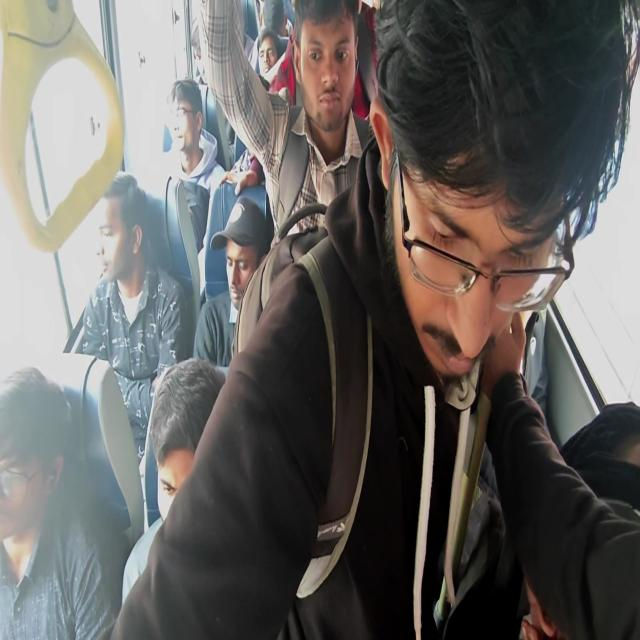person: (401, 42, 640, 408), (3, 376, 92, 558), (90, 176, 174, 310), (160, 382, 230, 518), (297, 1, 362, 131), (591, 407, 640, 540), (172, 90, 220, 166), (227, 204, 258, 316), (260, 32, 292, 98), (268, 5, 282, 30)
